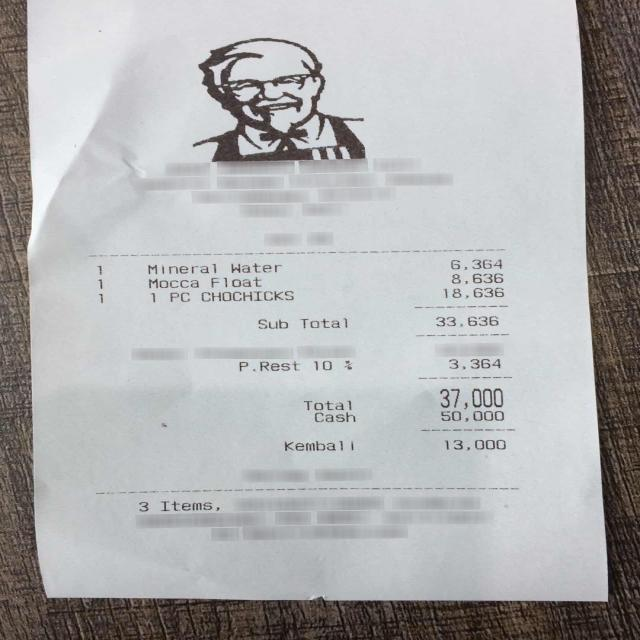kertas: (28, 0, 607, 601)
